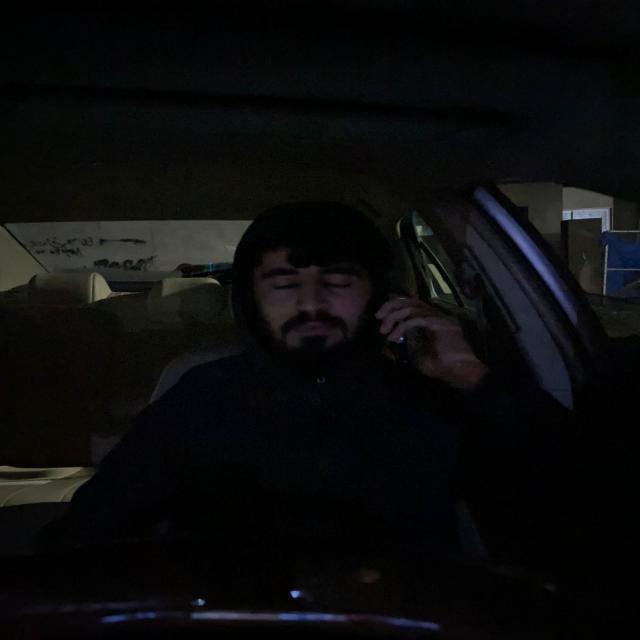drowsy: (238, 214, 385, 355)
